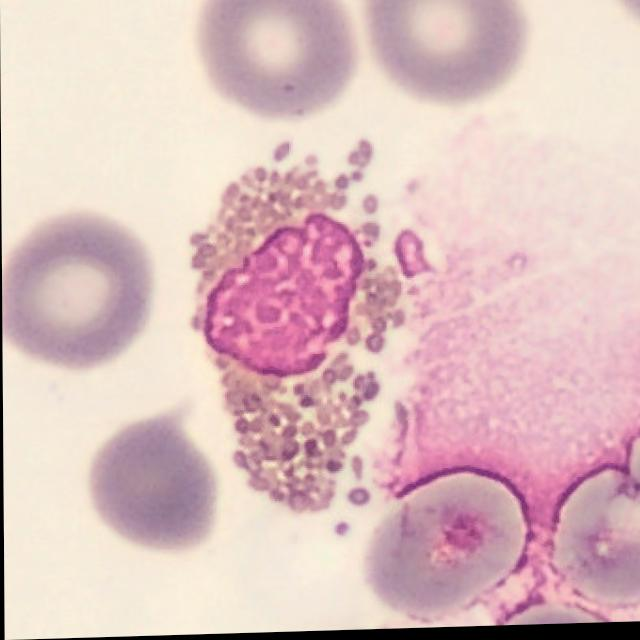Eosinofilo: (190, 143, 448, 519)
